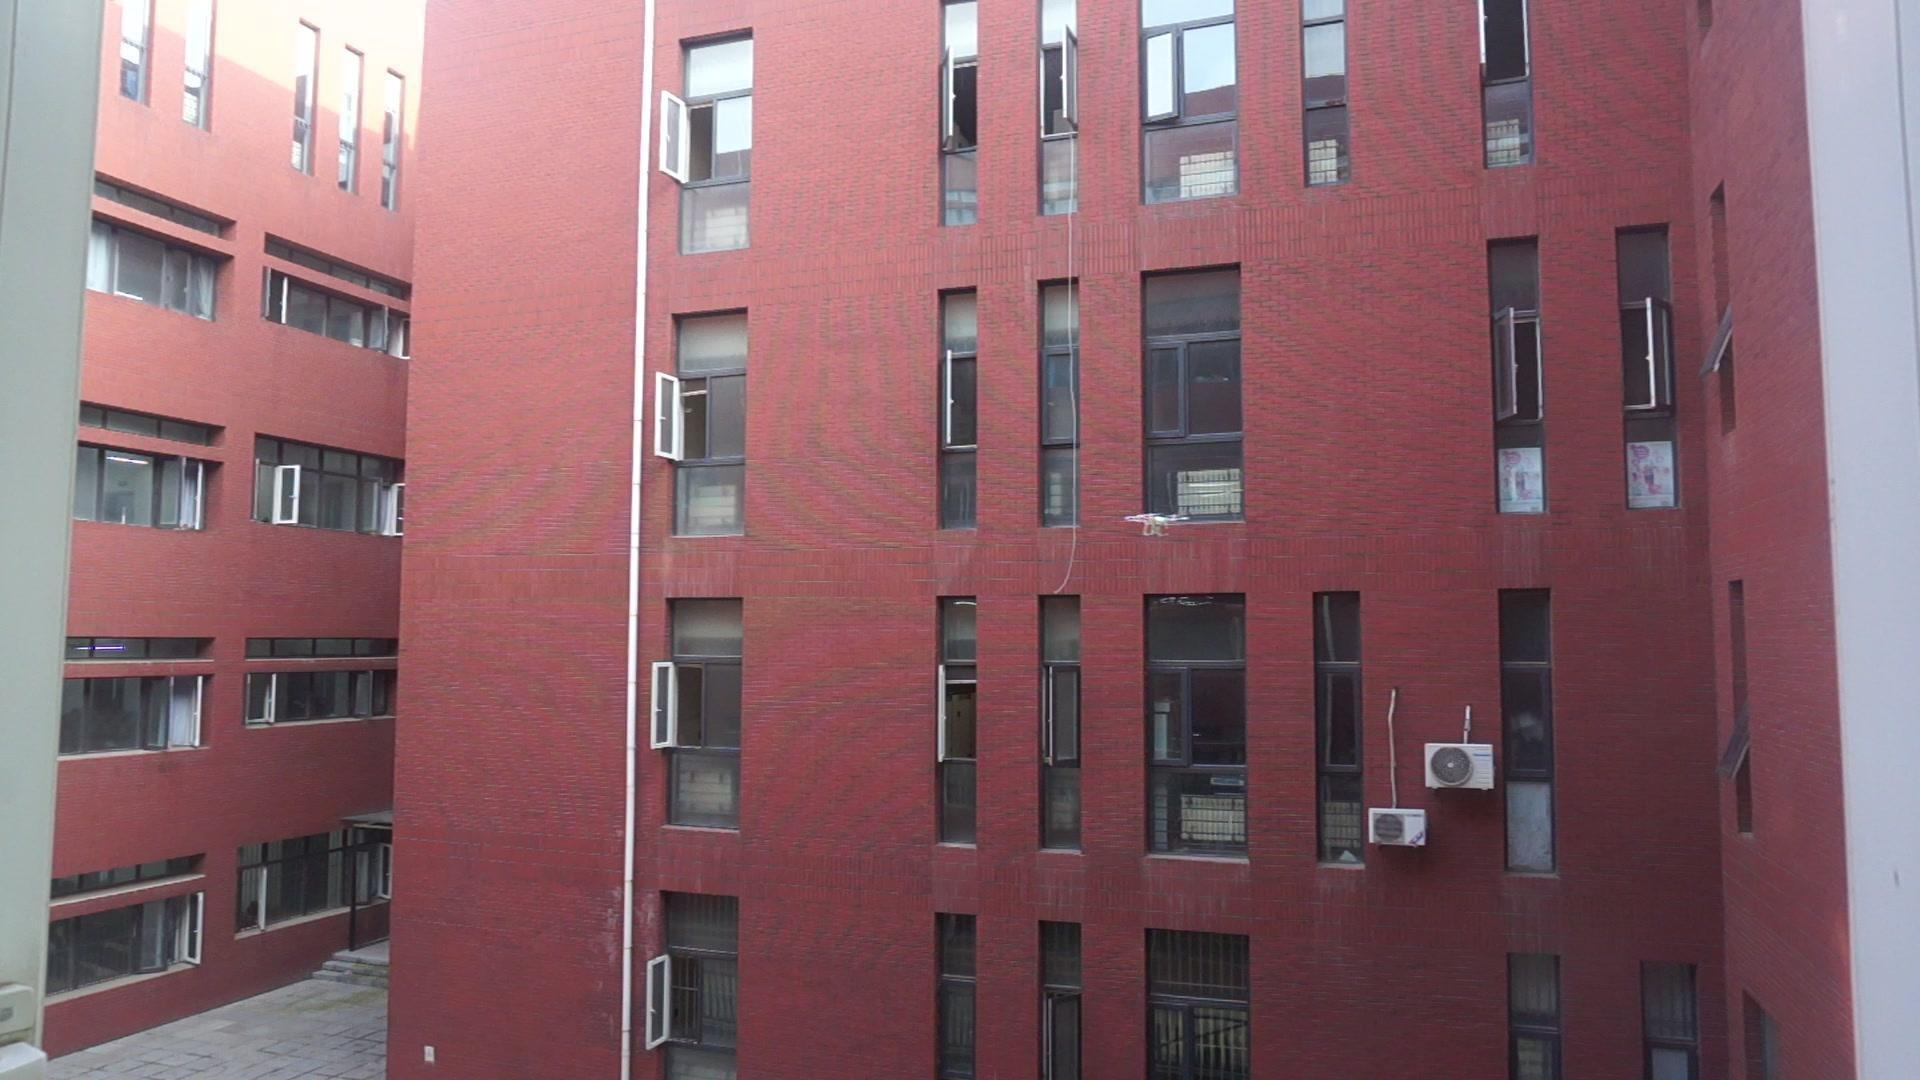UAV: (1125, 514, 1191, 537)
